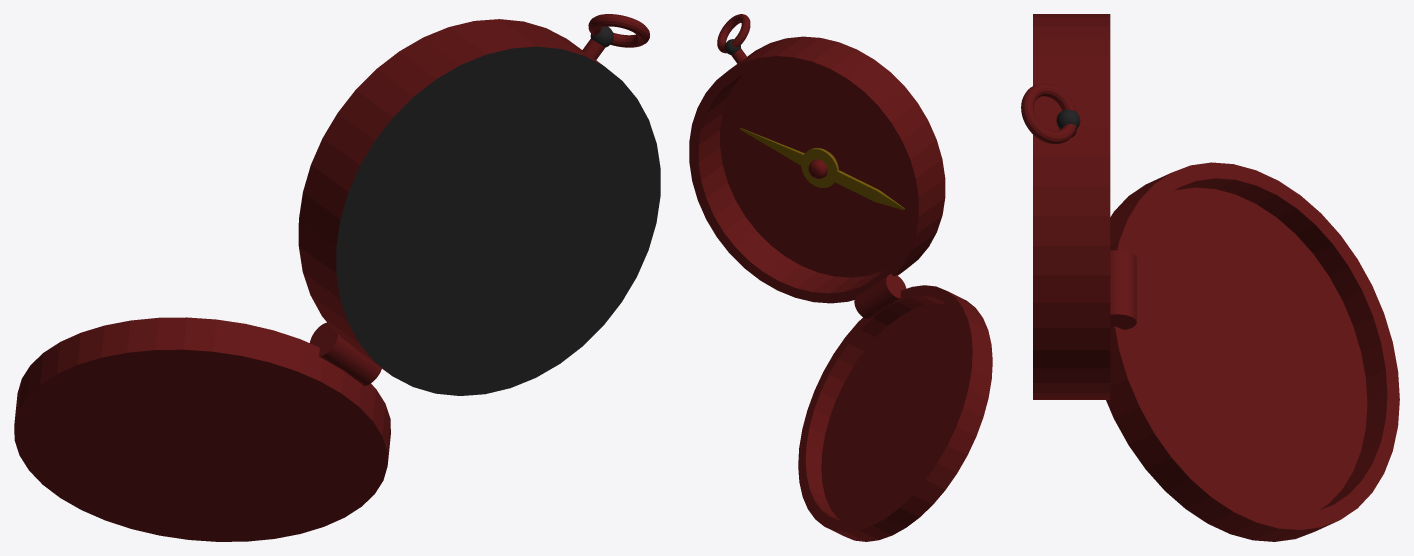
Rendered from Compass.fbx.
3 views of the same model, side by side, from view 1: azimuth 30°, elevation 25°; view 2: azimuth 150°, elevation 25°; view 3: azimuth 270°, elevation 25° (orthographic). The views are drawn at different scales.
Parts seen in each view (by area): view 1: Compass_Bottom.001; view 2: Compass_Bottom.001; view 3: Compass_Bottom.001.
Part boxes in pixels (<box>): Compass_Bottom.001: <box>14,14,660,541</box>; Compass_Bottom.001: <box>689,14,992,541</box>; Compass_Bottom.001: <box>1021,14,1399,541</box>.
Bounding box in the file's own units: 183 × 194 × 115.
